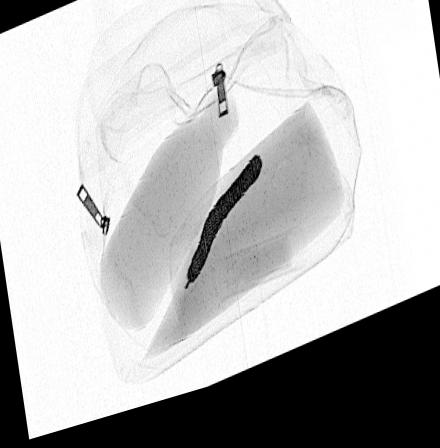Gun: (187, 166, 262, 293)
